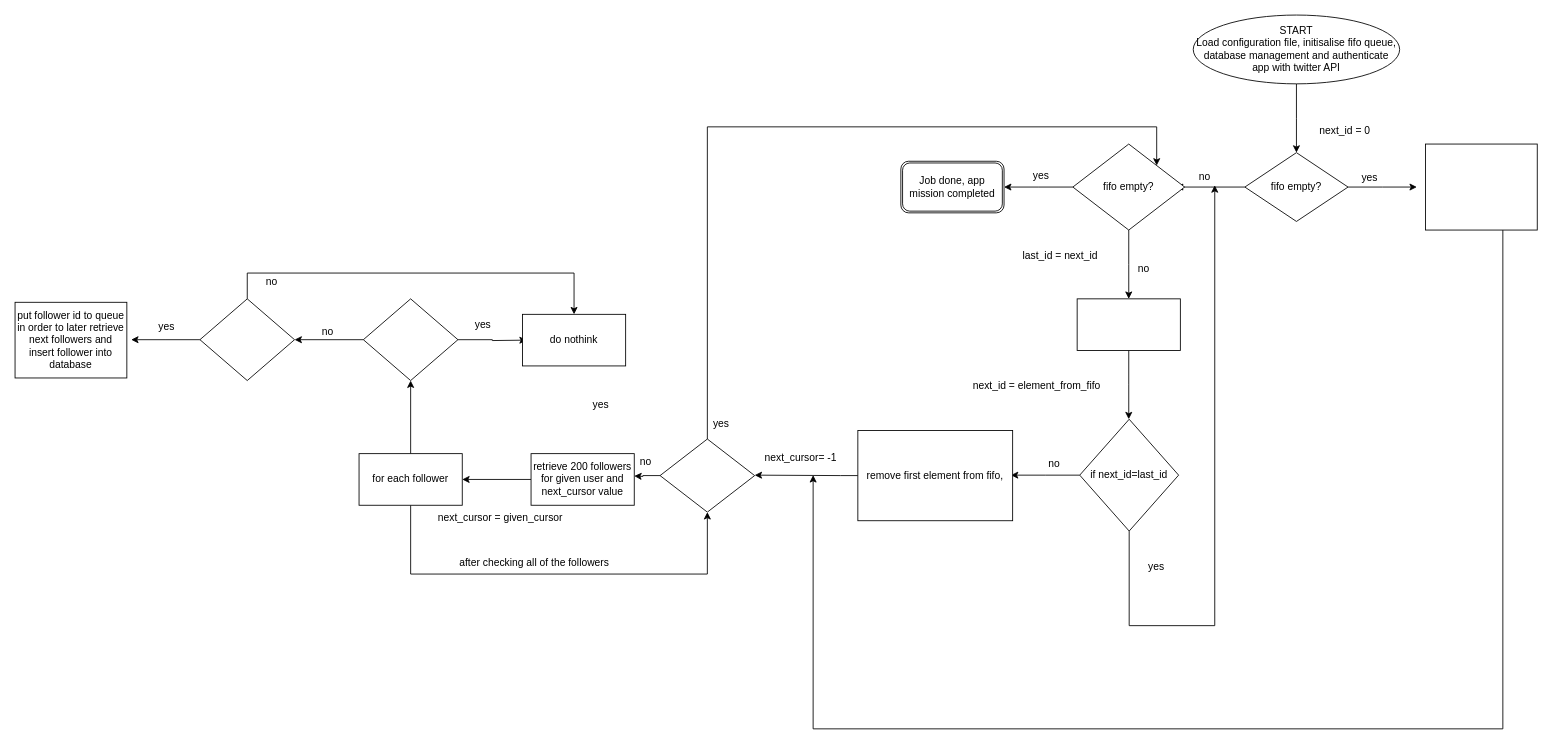
Image size: 1552x751. Some labels were removed from this diagram. The box of each missing label's shape, as (x1, y1, x2, y2) in pixels:
if already in database: (362, 298, 458, 381)
if conditions performed: (199, 298, 295, 381)
if next_cursor=0: (659, 438, 755, 512)
set start point for 'verified pages' (id to such page on twitter): (1425, 143, 1537, 230)
take first element from fifo: (1076, 298, 1180, 350)
